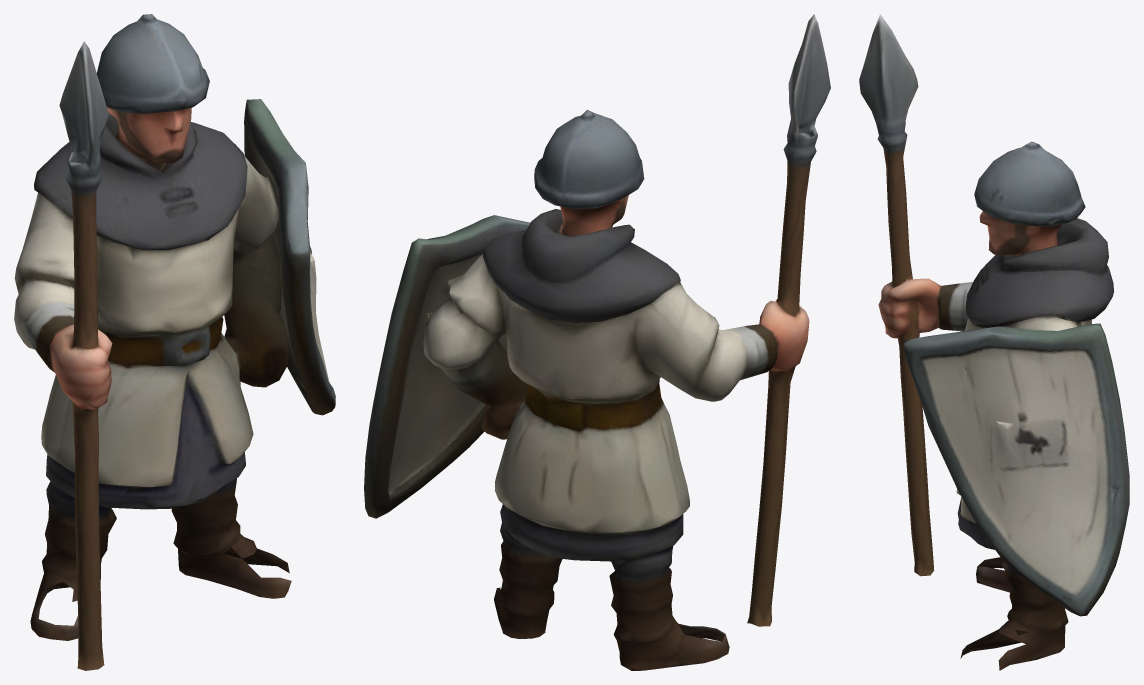
File: free_spears_ready.glb
The picture shows the model from 3 angles, left to right: view 1: azimuth 30°, elevation 25°; view 2: azimuth 150°, elevation 25°; view 3: azimuth 270°, elevation 25°; orthographic projection. The views are drawn at different scales.
Parts seen in each view (by area): view 1: world; view 2: world; view 3: world.
Boxes of the visible parts, x1,y1,x2,y2 form: world: (14, 14, 335, 670); world: (364, 14, 830, 670); world: (859, 14, 1129, 670).
Bounding box in the file's own units: 0.5931 × 0.9902 × 0.4462.
Materials: 1 (1 with a texture image).
